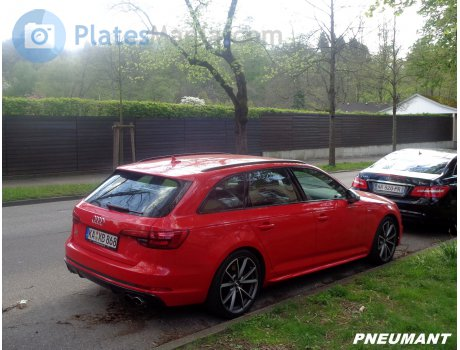License Plates: (86, 225, 113, 243)
